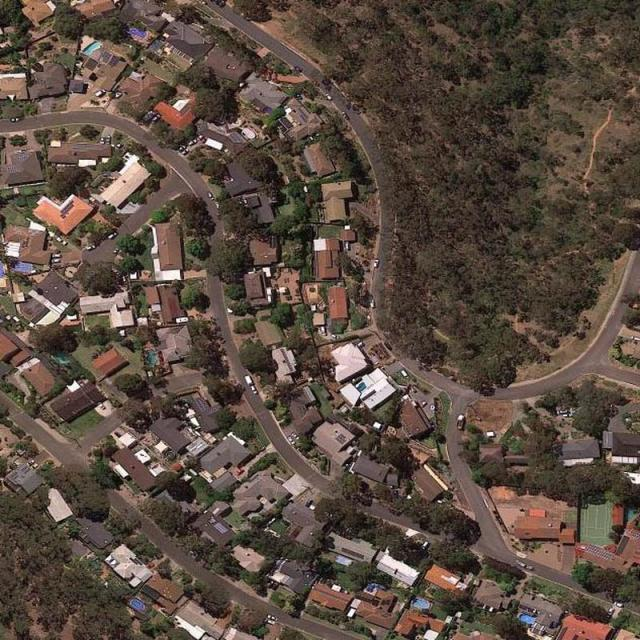vehicle: (457, 414, 466, 430), (243, 373, 253, 386), (399, 369, 410, 380), (150, 114, 162, 124), (94, 90, 108, 98), (206, 191, 215, 201), (250, 384, 258, 395), (288, 434, 296, 445), (422, 540, 430, 550), (108, 231, 118, 238), (342, 110, 349, 120), (267, 614, 277, 621), (306, 498, 313, 508), (608, 606, 615, 616), (188, 139, 198, 146), (370, 298, 376, 309), (518, 560, 526, 568), (26, 459, 35, 466), (98, 402, 105, 410), (55, 234, 62, 242), (9, 117, 20, 122), (556, 409, 567, 414), (373, 259, 379, 268), (52, 258, 61, 264), (421, 400, 427, 409), (321, 326, 326, 336), (52, 253, 62, 258), (613, 601, 623, 606), (115, 91, 122, 98), (114, 142, 122, 148), (114, 246, 120, 254), (326, 92, 331, 101), (292, 432, 299, 438), (178, 145, 185, 151), (182, 148, 188, 155), (87, 245, 95, 250), (101, 136, 105, 145), (106, 135, 110, 144), (31, 464, 38, 469), (197, 135, 202, 140)
